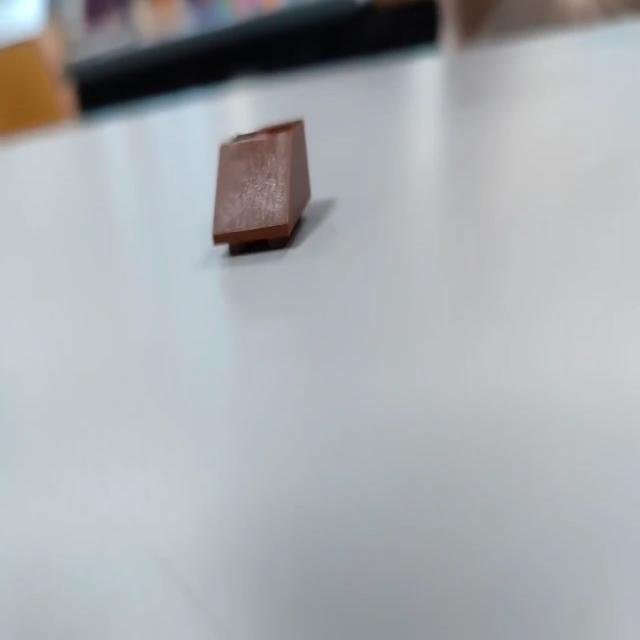X2x2x1: (211, 116, 311, 255)
